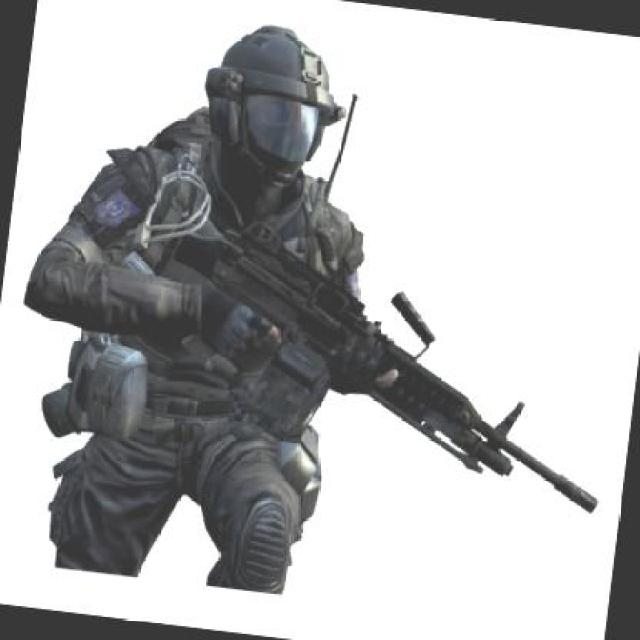MIL_Pax: (0, 0, 388, 602)
